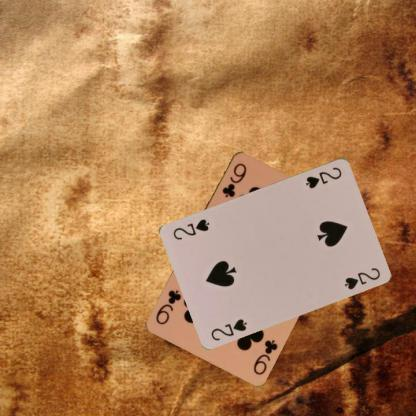2s: (303, 164, 343, 190), (209, 316, 249, 342)
9c: (219, 159, 248, 199), (250, 336, 279, 376)
